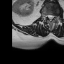CCS_normal: (49, 12, 51, 23)
LFS_severe_stenosis: (54, 13, 56, 19)
LLS_normal: (52, 13, 54, 20)
RFS_normal: (45, 12, 47, 19)
RLS_normal: (47, 12, 49, 19)
